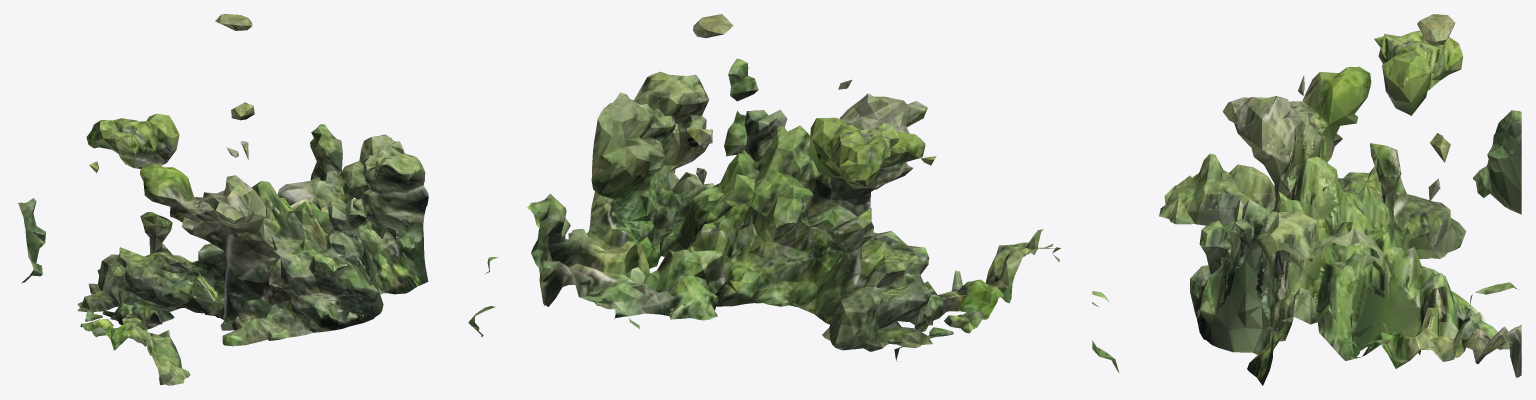
The picture shows the model from 3 angles, left to right: view 1: azimuth 30°, elevation 25°; view 2: azimuth 150°, elevation 25°; view 3: azimuth 270°, elevation 25°; orthographic projection. The views are drawn at different scales.
Bounding box in the file's own units: 26.11 × 19.72 × 26.11.
Materials: 4 (4 with a texture image).
